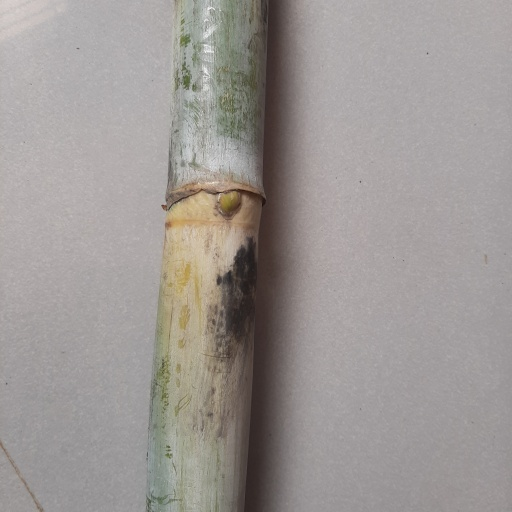Bud: (215, 190, 243, 221)
